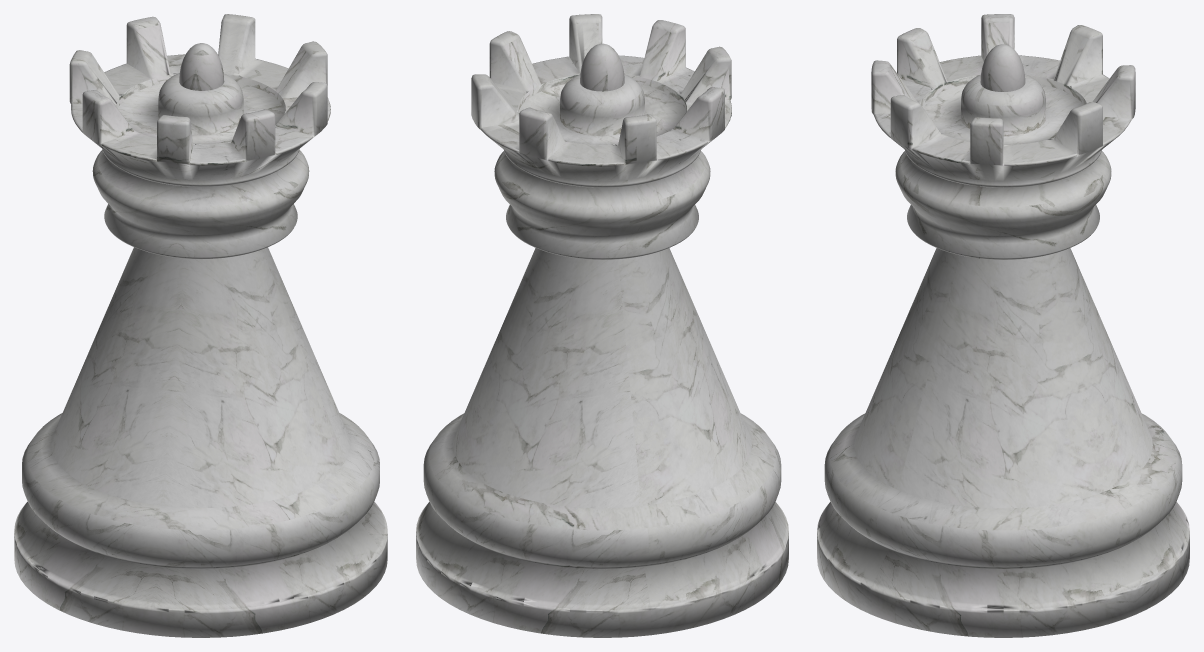
The model's file is ALL.gltf.
3 renders of one model, left to right at view 1: azimuth 30°, elevation 25°; view 2: azimuth 150°, elevation 25°; view 3: azimuth 270°, elevation 25°, orthographic.
Parts seen in each view (by area): view 1: Queen.001; view 2: Queen.001; view 3: Queen.001.
Boxes of the visible parts, x1,y1,x2,y2 form: Queen.001: [14, 14, 387, 637]; Queen.001: [416, 14, 788, 637]; Queen.001: [817, 14, 1189, 637].
Size of the model in its own units: 0.0218 by 0.0332 by 0.0218.
1 material, 1 textured.
